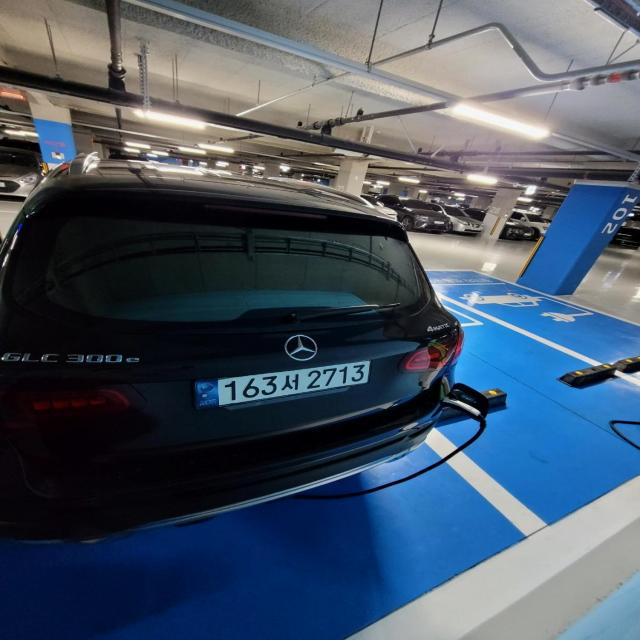car: (4, 152, 467, 548)
illegal_plate: (190, 364, 382, 412)
